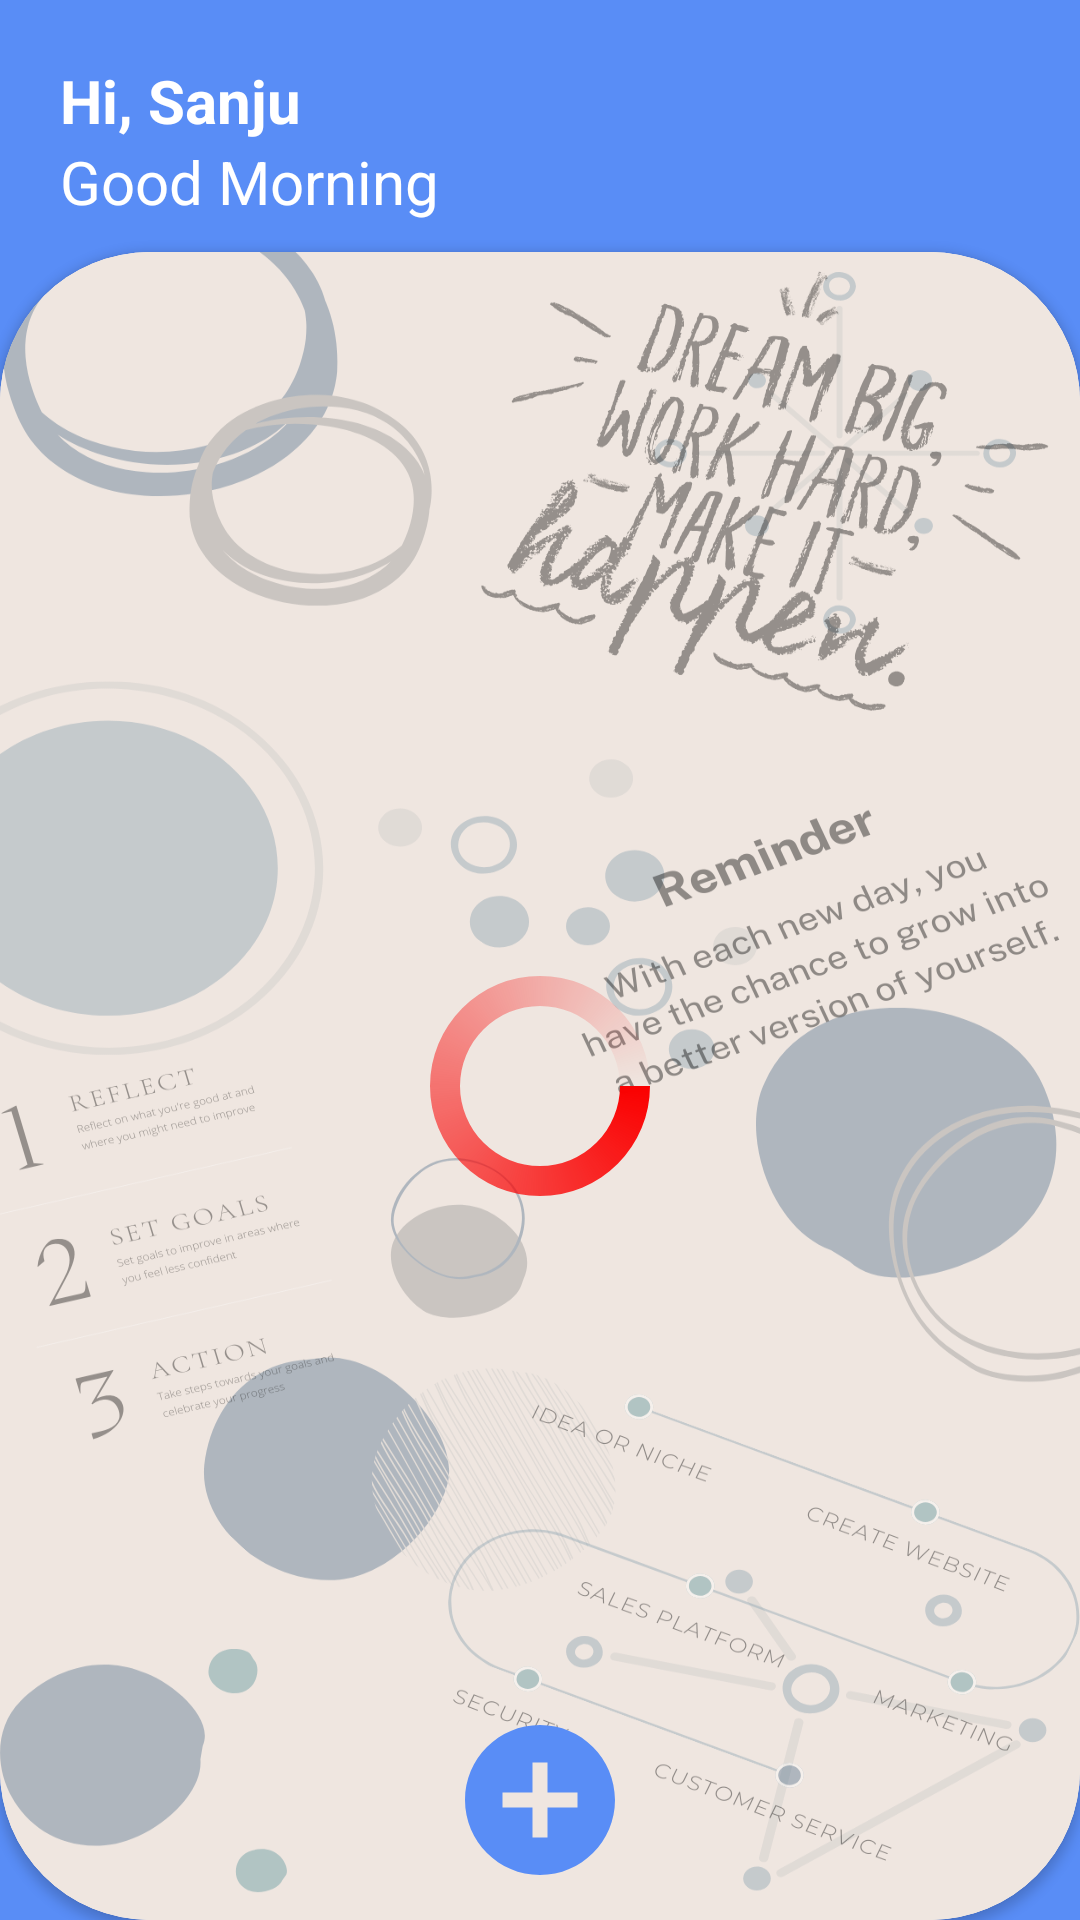

Point at icon controls on the screen. Image size 1080*1920, points as (x,y).
add circle: (540,1792)
